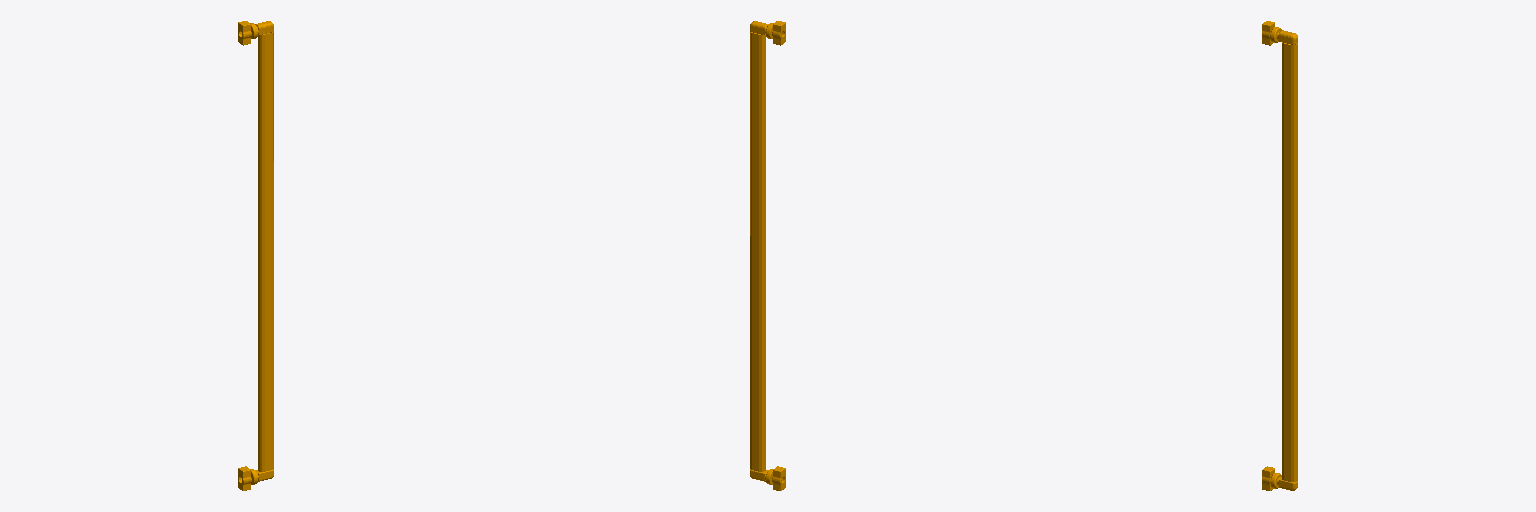
robot.urdf — handrail:
<?xml version="1.0"?>

<!-- Copyright (c) 2017, United States Government, as represented by the     -->
<!-- Administrator of the National Aeronautics and Space Administration.     -->
<!--                                                                         -->
<!-- All rights reserved.                                                    -->
<!--                                                                         -->
<!-- The Astrobee platform is licensed under the Apache License, Version 2.0 -->
<!-- (the "License"); you may not use this file except in compliance with    -->
<!-- the License. You may obtain a copy of the License at                    -->
<!--                                                                         -->
<!--     http://www.apache.org/licenses/LICENSE-2.0                          -->
<!--                                                                         -->
<!-- Unless required by applicable law or agreed to in writing, software     -->
<!-- distributed under the License is distributed on an "AS IS" BASIS,       -->
<!-- WITHOUT WARRANTIES OR CONDITIONS OF ANY KIND, either express or         -->
<!-- implied. See the License for the specific language governing            -->
<!-- permissions and limitations under the License.                          -->

<robot name="handrail" xmlns:xacro="http://www.ros.org/wiki/xacro">
  <link name="body">
    <inertial>
      <mass value="20"/>
      <origin xyz="0 0 0"/>
      <inertia ixx="1" ixy="0" ixz="0" iyy="1" iyz="0" izz="1"/>
    </inertial>
    <visual name="body_visual">
      <origin xyz="0 0 0" rpy="0 0 0" />
      <geometry>
        <mesh filename="package://astrobee_handrail_41_5/meshes/handrail_41_5.dae"/>
      </geometry>
    </visual>
    <collision name="body_collision">
      <origin xyz="0 0 0" rpy="0 0 0" />
      <geometry>
        <mesh filename="package://astrobee_handrail_41_5/meshes/handrail_41_5.dae"/>
      </geometry>
    </collision>
  </link>
  <gazebo>
    <static>true</static>
  </gazebo>
</robot>

--- Render facts (derived) ---
3 views of the same robot in one strip: view 1: azimuth 30°, elevation 25°; view 2: azimuth 150°, elevation 25°; view 3: azimuth 330°, elevation 25° (orthographic).
Model handrail with 1 links and 0 joints (none), rooted at body, posed all joints at 0.
Visible links, largest first — view 1: body; view 2: body; view 3: body.
Boxes of the visible links, bbox=[...] form: body: bbox=[238, 21, 273, 490]; body: bbox=[750, 21, 785, 490]; body: bbox=[1262, 21, 1297, 490].
Bounding box of the posed robot: 0.0784 × 0.0332 × 1.06 m (x, y, z).
1 mesh visuals loaded from 1 distinct referenced files (1 Collada DAE).
